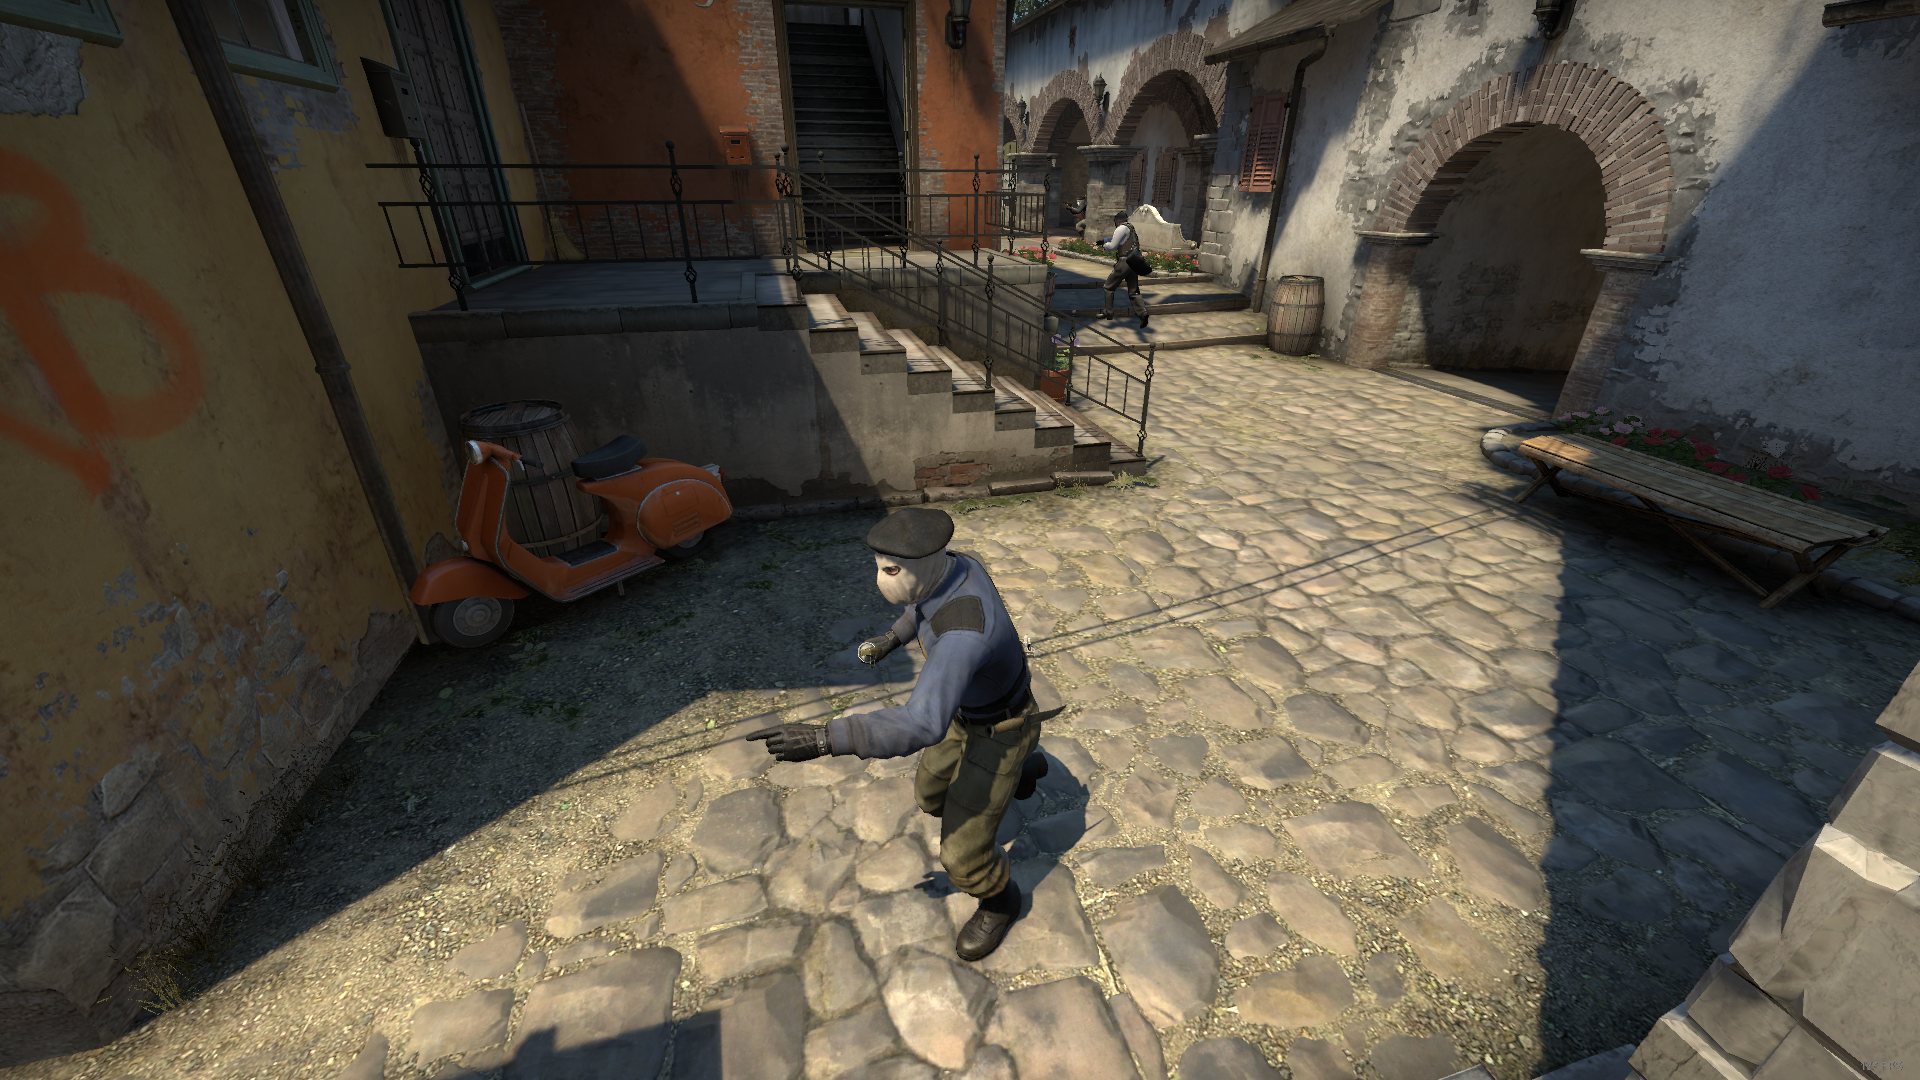t: (746, 495, 1075, 967)
